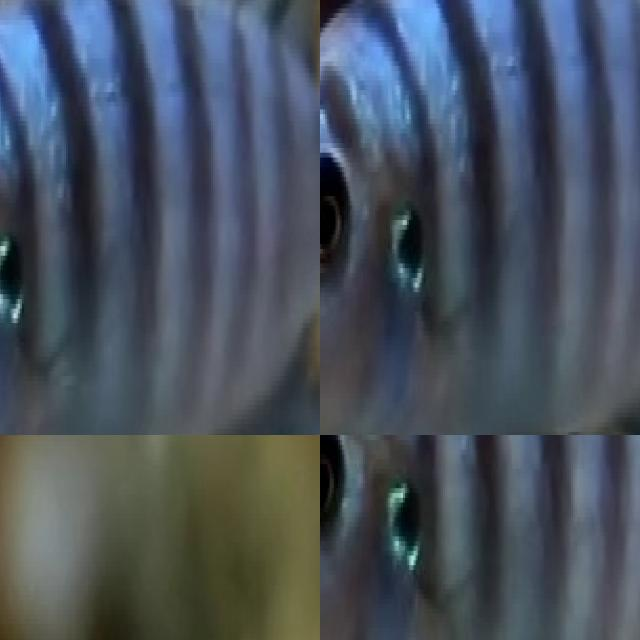fish: (0, 0, 320, 435), (320, 0, 640, 435)
